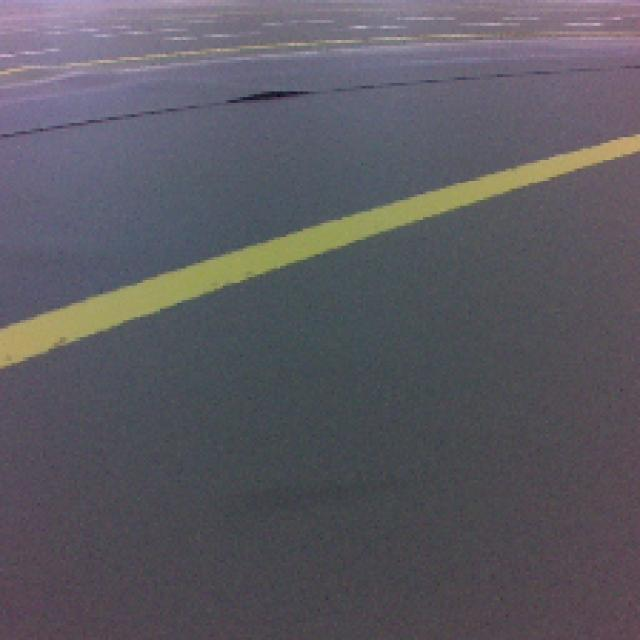Road: (0, 290, 638, 638)
